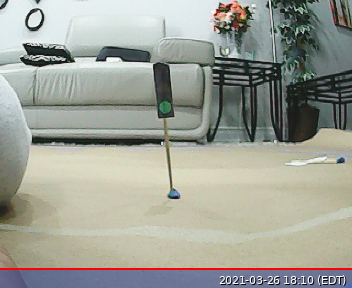Green Traffic Light: (152, 61, 176, 118)
